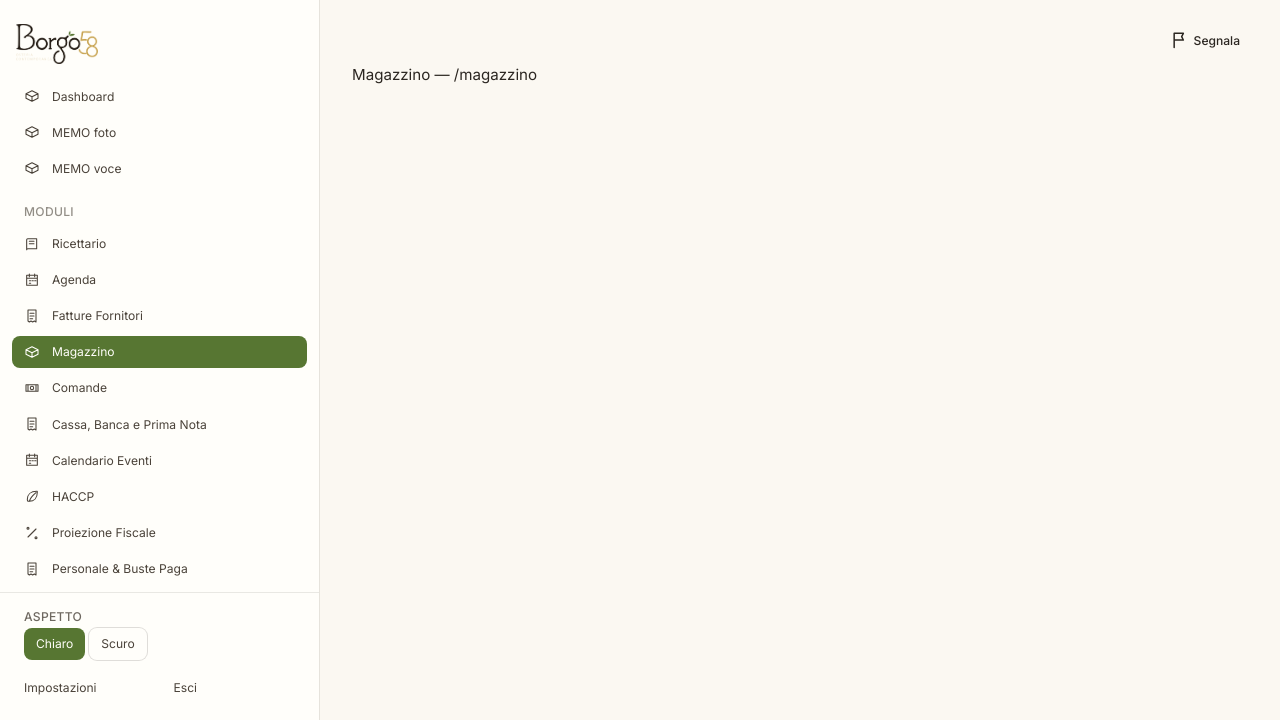
Test: 🔴 MEMO si apre da qualunque modulo e si torna dove si era › ⚠️ la voce «MEMO voce» della barra laterale porta con sé la stessa partenza
Click the link "MEMO voce".
click(73, 168)  # box x1=24 y1=160 x2=122 y2=176
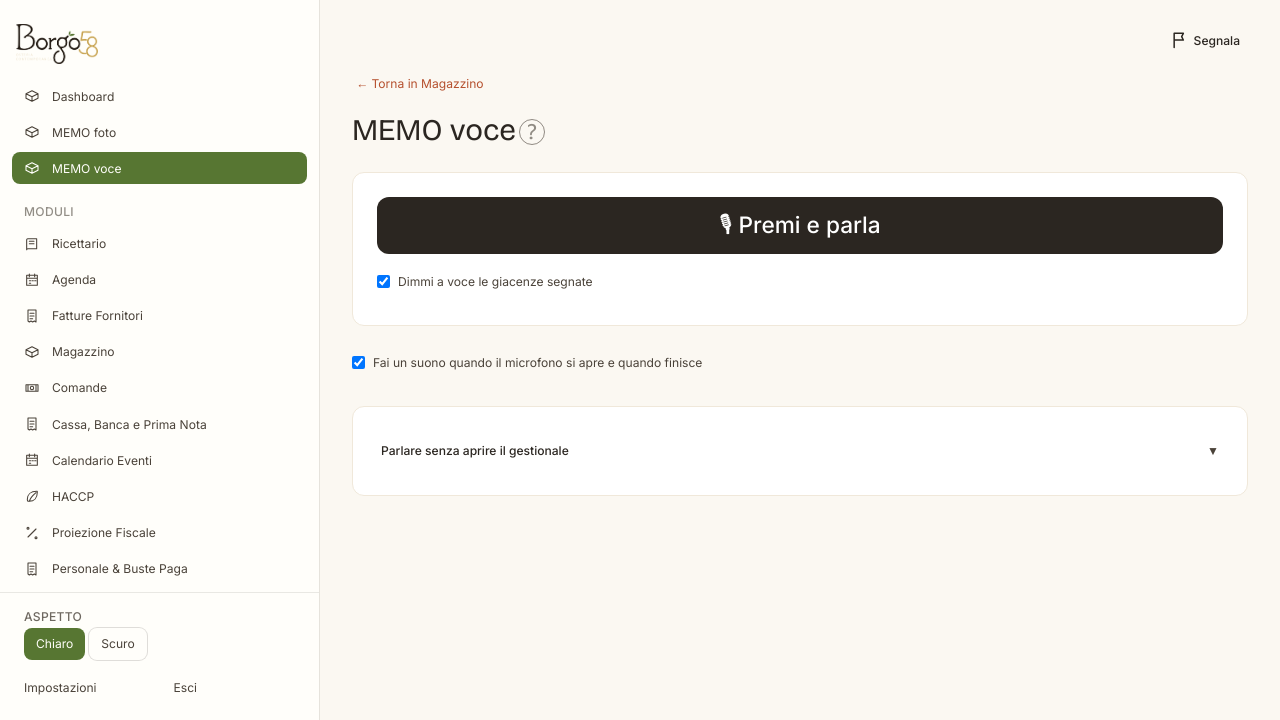
Click the link "← Torna in Magazzino".
click(420, 84)  # box x1=356 y1=76 x2=484 y2=91
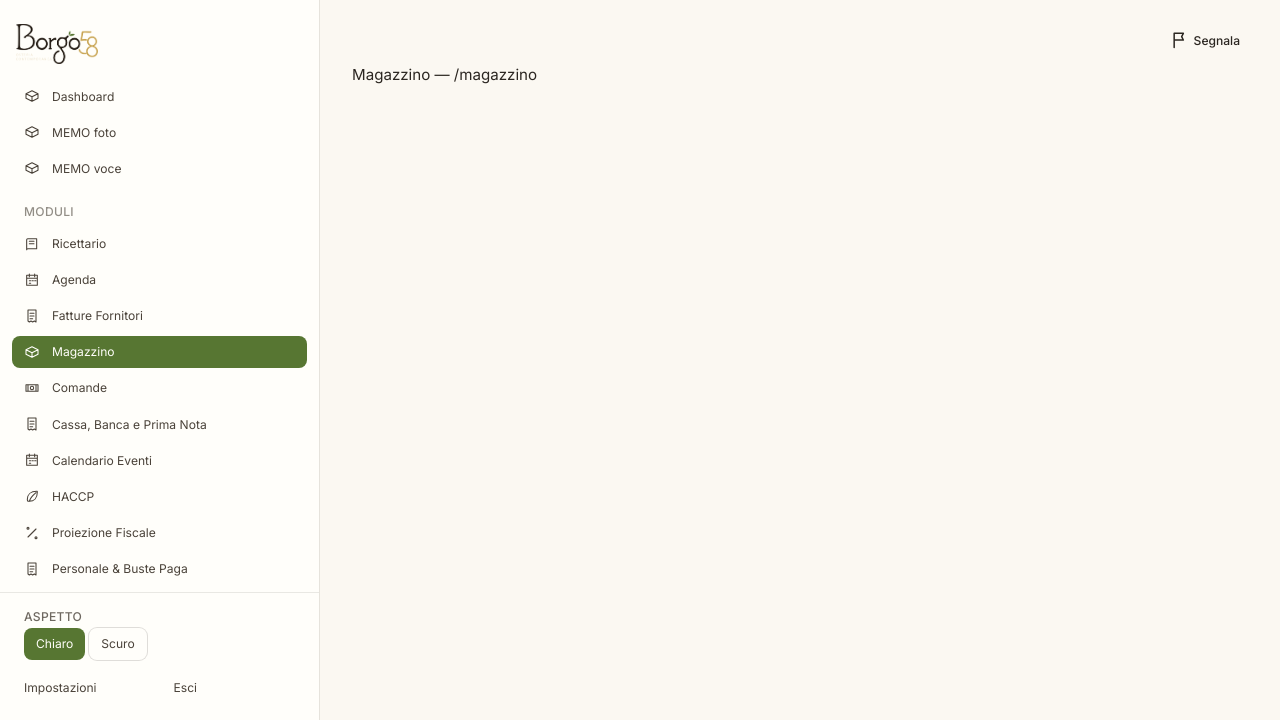
Now the text "Magazzino — /magazzino" is shown, box x1=352 y1=65 x2=537 y2=84
